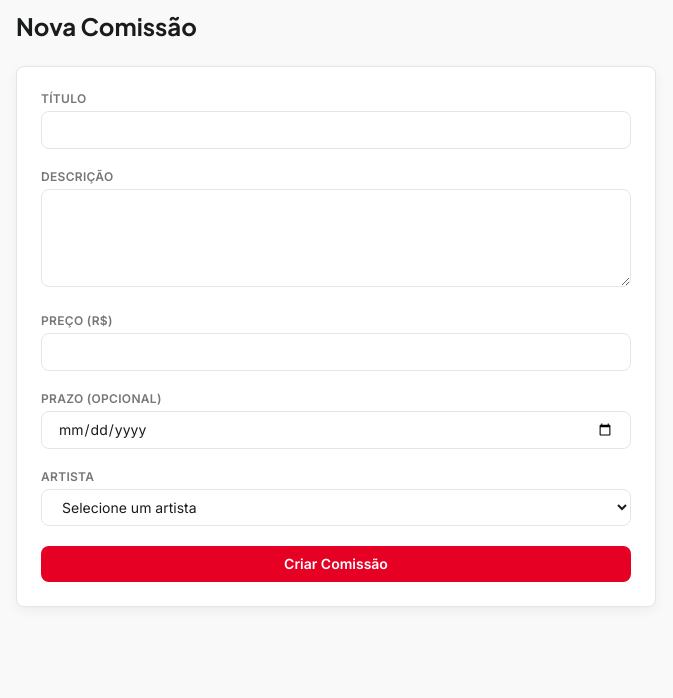
it: ClienteNovaComissao › shows validation errors for empty required fields
Expected: the field labelled "Título" is shown, [41, 111, 631, 149]
Click the button "Criar Comissão": {"x": 336, "y": 564} [41, 546, 631, 582]
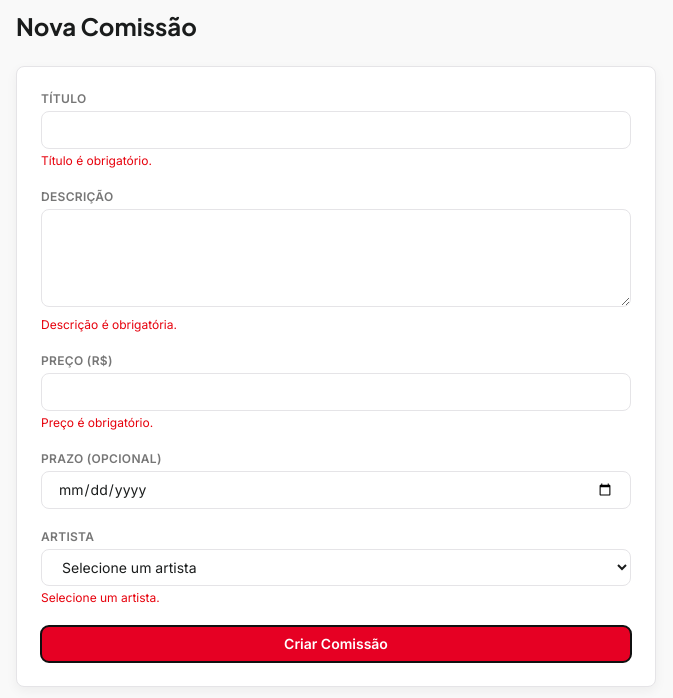
Now the text "Título é obrigatório." is shown, box [41, 153, 152, 168]
Now the text "Descrição é obrigatória." is shown, box [41, 317, 177, 332]
Now the text "Preço é obrigatório." is shown, box [41, 415, 153, 430]
